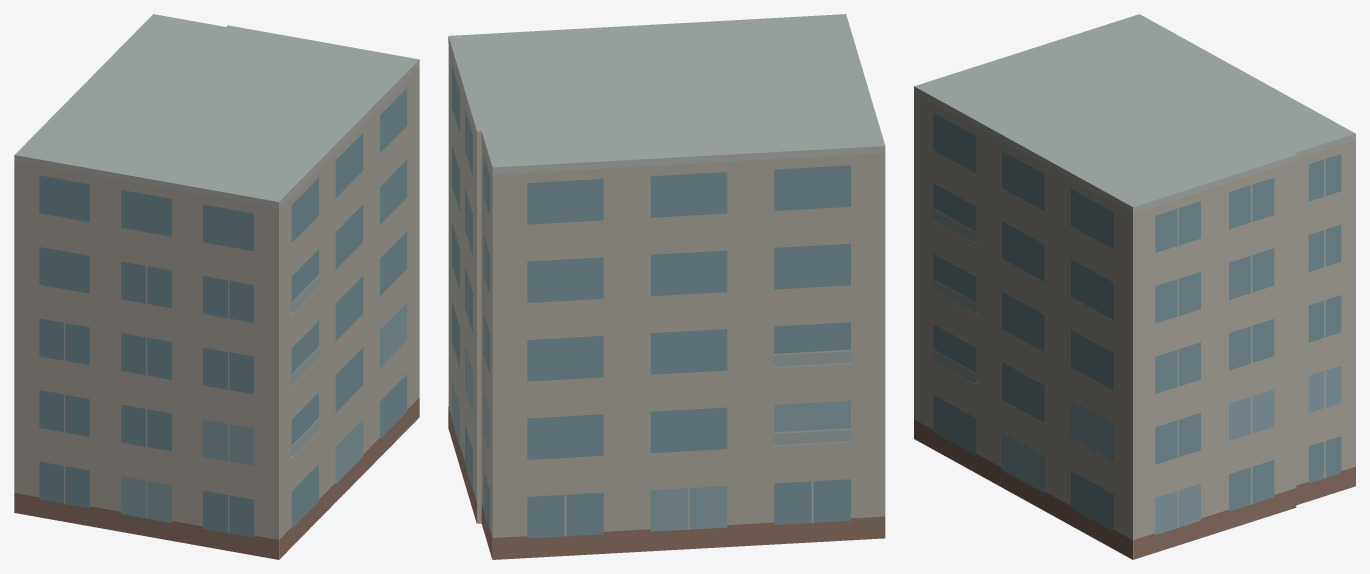
File: survey-upis-33035778.glb
3 views of the same model, side by side, from view 1: azimuth 30°, elevation 25°; view 2: azimuth 150°, elevation 25°; view 3: azimuth 270°, elevation 25° (orthographic). The views are drawn at different scales.
Visible parts, largest first — view 1: survey-upis-33035778.tmp; view 2: survey-upis-33035778.tmp; view 3: survey-upis-33035778.tmp.
Part boxes in pixels (left/top/right/bottom): survey-upis-33035778.tmp: left=14, top=14, right=419, bottom=559; survey-upis-33035778.tmp: left=448, top=14, right=885, bottom=559; survey-upis-33035778.tmp: left=914, top=14, right=1355, bottom=559.
Size of the model in its own units: 15.87 by 13.5 by 15.33.
